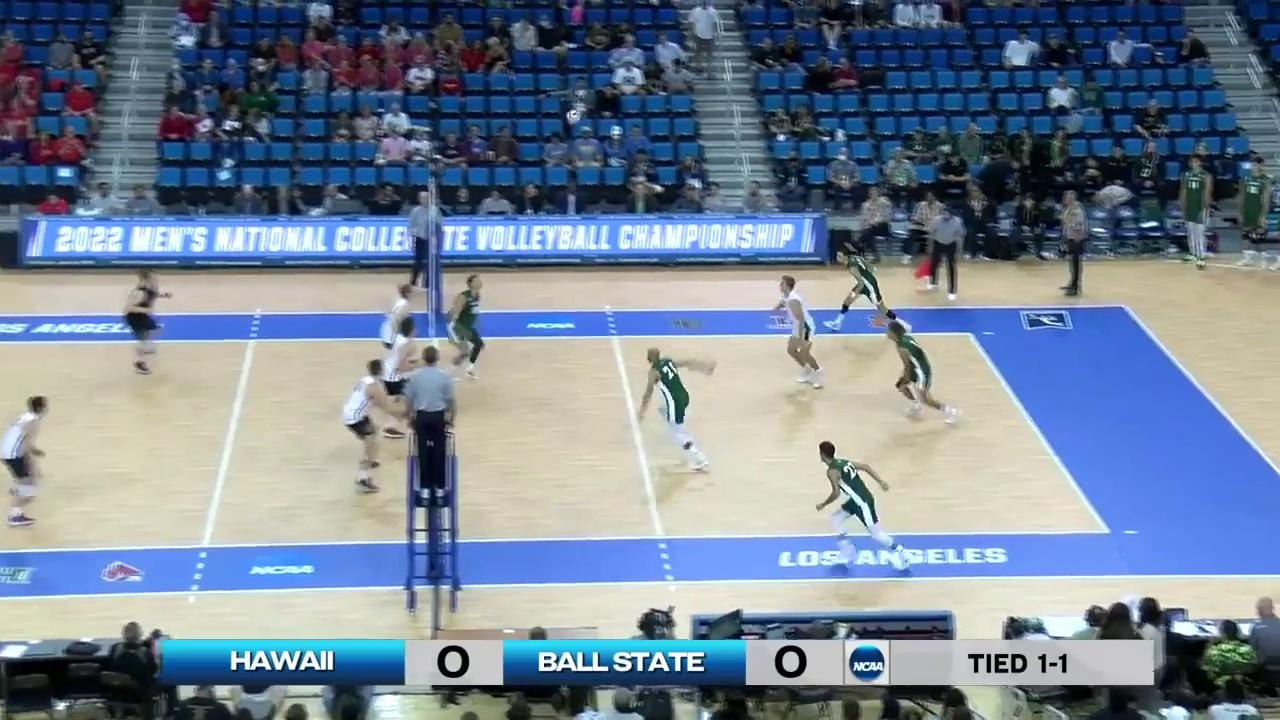player: (815, 443, 916, 570), (637, 348, 712, 472), (887, 322, 963, 429), (825, 249, 912, 333), (343, 359, 393, 493), (1, 396, 50, 527), (771, 277, 827, 387), (123, 269, 169, 375), (381, 319, 418, 438), (447, 276, 487, 381), (377, 285, 416, 380)
refree: (396, 345, 456, 496), (916, 209, 962, 299), (410, 189, 443, 293)
